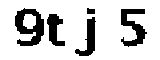5: (114, 4, 154, 49)
9: (13, 6, 45, 50)
j: (71, 5, 103, 58)
t: (46, 12, 69, 51)
